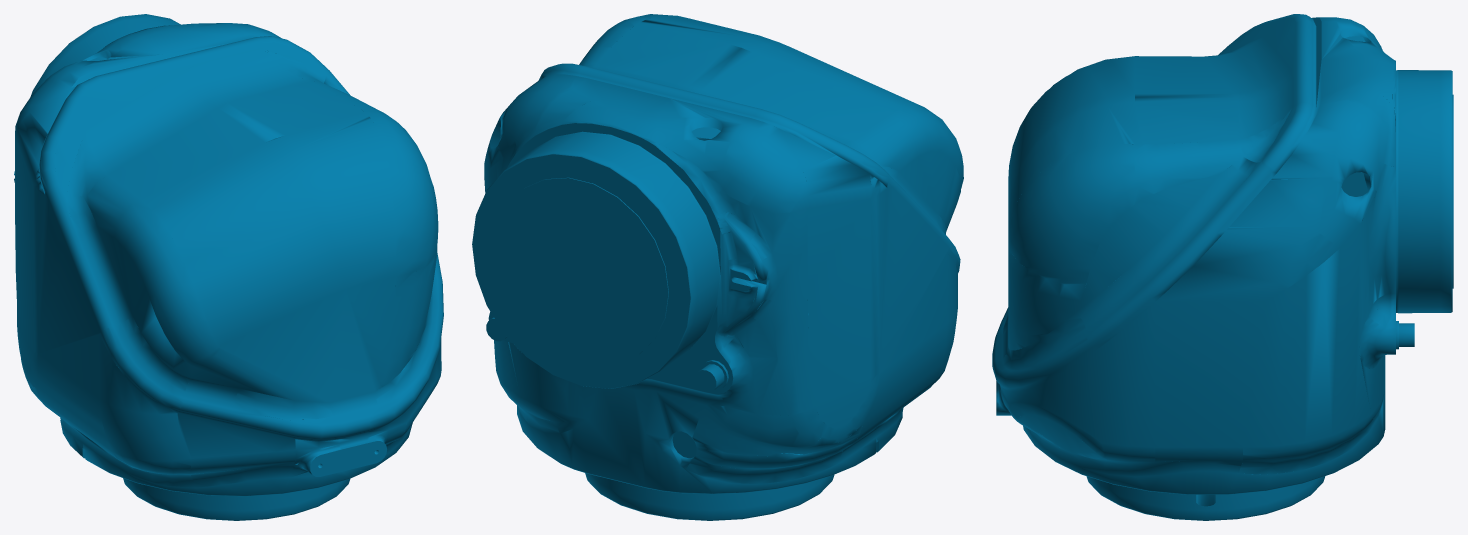
3 views of the same model, side by side, from view 1: azimuth 30°, elevation 25°; view 2: azimuth 150°, elevation 25°; view 3: azimuth 270°, elevation 25° (orthographic). The views are drawn at different scales.
Parts seen in each view (by area): view 1: mesh_shell_11__LOD_0_.001; view 2: mesh_shell_11__LOD_0_.001; view 3: mesh_shell_11__LOD_0_.001.
Part boxes in pixels (x1,y1,x2,y2): mesh_shell_11__LOD_0_.001: (14, 14, 443, 520); mesh_shell_11__LOD_0_.001: (472, 14, 963, 520); mesh_shell_11__LOD_0_.001: (992, 14, 1453, 520).
Bounding box in the file's own units: 0.42 × 0.4731 × 0.4567.
